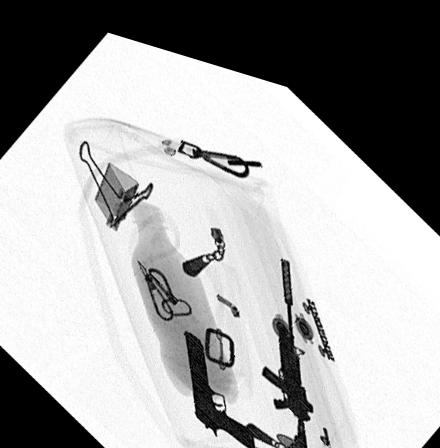Gun: (259, 238, 315, 442), (182, 315, 254, 432)
